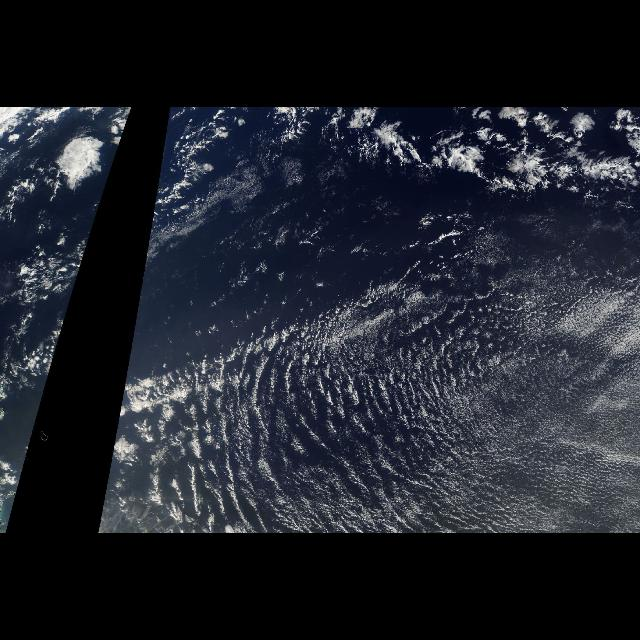Gravel: (332, 111, 640, 185)
Sugar: (149, 259, 637, 533), (147, 143, 331, 249)
